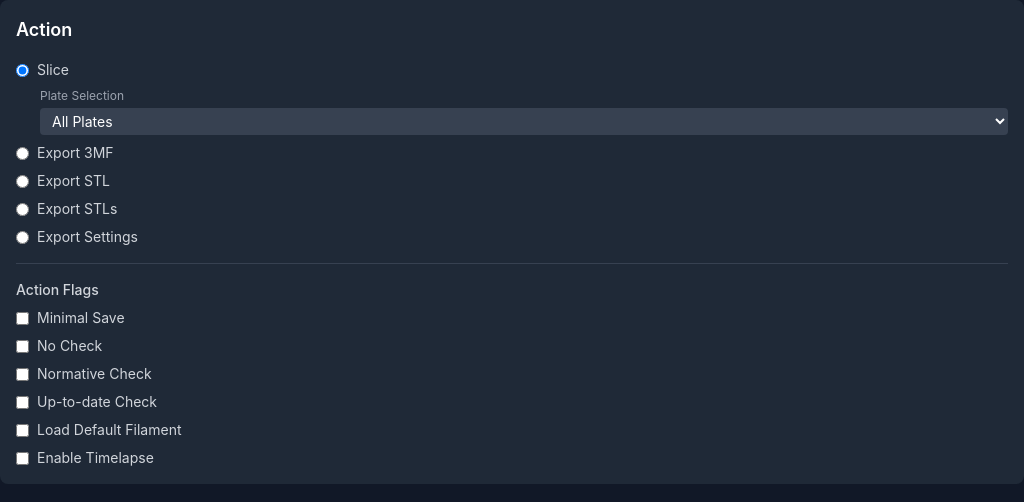
Test case: ActionSelector › Conditional UI: Plate Selector (Requirement 5.2) › hides plate selector when Export 3MF is selected
This screenshot has width=1024, height=502.
Select Export 3MF
Click the radio button labelled "Export 3MF" at coordinates (22, 153), box [16,146,29,160]
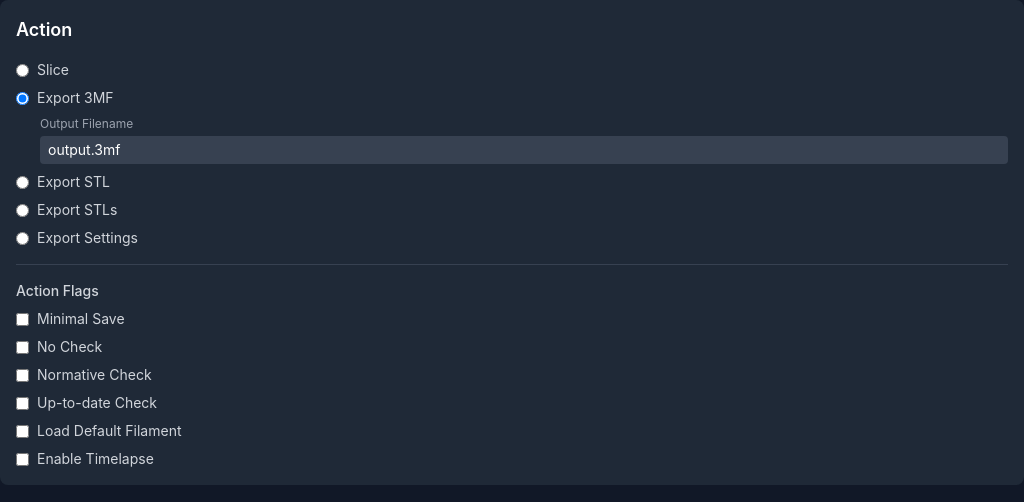
Expected: the text "Plate Selection" is gone
